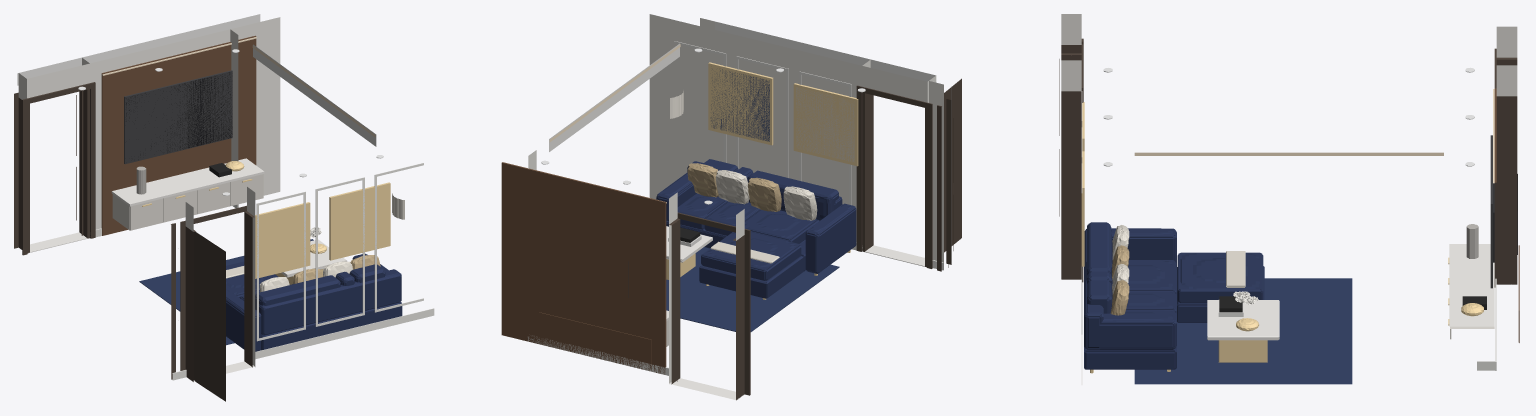
Rendered from LIVING.glb.
The picture shows the model from 3 angles, left to right: view 1: azimuth 30°, elevation 25°; view 2: azimuth 150°, elevation 25°; view 3: azimuth 270°, elevation 25°; orthographic projection. The views are drawn at different scales.
Parts seen in each view (by area): view 1: WEB_LIVING; view 2: WEB_LIVING; view 3: WEB_LIVING.
Boxes of the visible parts, box(x1,y1,x2,y2) form: WEB_LIVING: box(14, 14, 434, 401); WEB_LIVING: box(501, 14, 961, 400); WEB_LIVING: box(1059, 14, 1519, 384).
Bounding box in the file's own units: 4.15 × 2.5 × 5.49.
